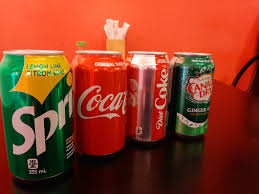can: (2, 46, 217, 180)
